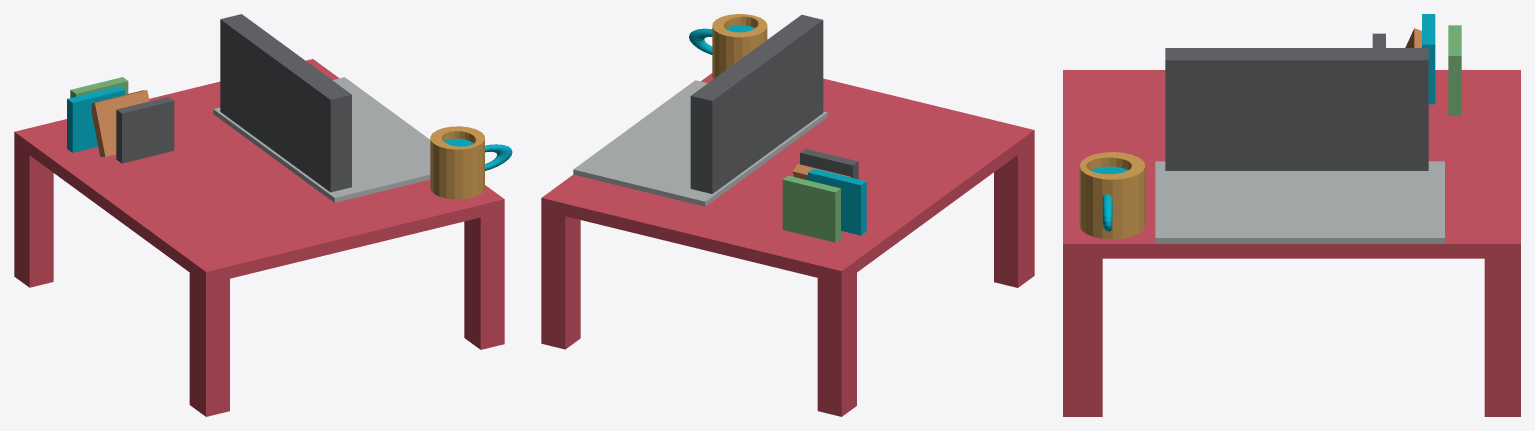
The model's file is Grand Jaiks.glb.
The picture shows the model from 3 angles, left to right: view 1: azimuth 30°, elevation 25°; view 2: azimuth 150°, elevation 25°; view 3: azimuth 270°, elevation 25°; orthographic projection. The views are drawn at different scales.
Visible parts, largest first — view 1: Mesh_Mesh_head_geo.001_lambert2SG.001; view 2: Mesh_Mesh_head_geo.001_lambert2SG.001; view 3: Mesh_Mesh_head_geo.001_lambert2SG.001.
Part boxes in pixels (<box>): Mesh_Mesh_head_geo.001_lambert2SG.001: <box>14,14,512,416</box>; Mesh_Mesh_head_geo.001_lambert2SG.001: <box>541,14,1034,416</box>; Mesh_Mesh_head_geo.001_lambert2SG.001: <box>1063,14,1520,416</box>.
Bounding box in the file's own units: 136 × 98 × 139.
